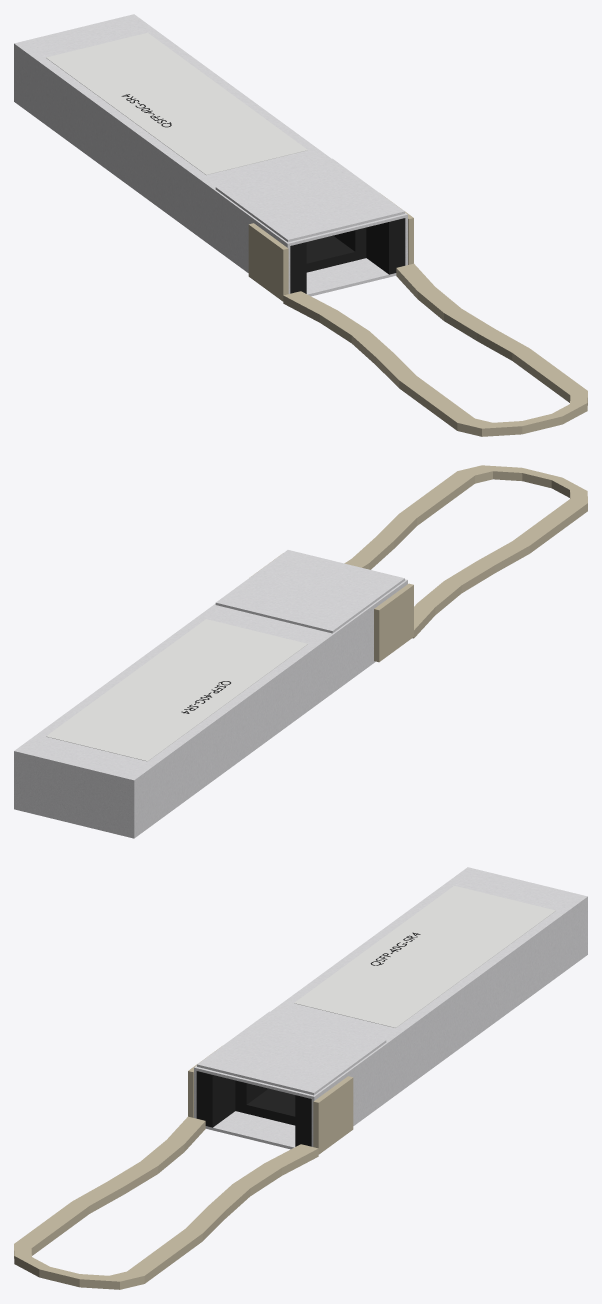
File: QSFP-40G-SR4.glb
The picture shows the model from 3 angles, top to bottom: view 1: azimuth 30°, elevation 25°; view 2: azimuth 150°, elevation 25°; view 3: azimuth 330°, elevation 25°; orthographic projection.
Parts seen in each view (by area): view 1: QSFP-40G-SR4_Housing, QSFP-40G-SR4_Labels, QSFP-40G-SR4_Tab; view 2: QSFP-40G-SR4_Housing, QSFP-40G-SR4_Labels, QSFP-40G-SR4_Tab; view 3: QSFP-40G-SR4_Housing, QSFP-40G-SR4_Labels, QSFP-40G-SR4_Tab.
Boxes of the visible parts, x1,y1,x2,y2 form: QSFP-40G-SR4_Housing: (14,14,407,296); QSFP-40G-SR4_Labels: (46,32,307,174); QSFP-40G-SR4_Tab: (248,193,587,436); QSFP-40G-SR4_Housing: (14,550,407,838); QSFP-40G-SR4_Labels: (46,619,307,761); QSFP-40G-SR4_Tab: (249,465,587,662); QSFP-40G-SR4_Housing: (194,867,587,1149); QSFP-40G-SR4_Labels: (294,885,555,1027); QSFP-40G-SR4_Tab: (14,1046,353,1289).
Bounding box in the file's own units: 0.02 × 0.00885 × 0.1238.
Materials: 4 (1 with a texture image).
